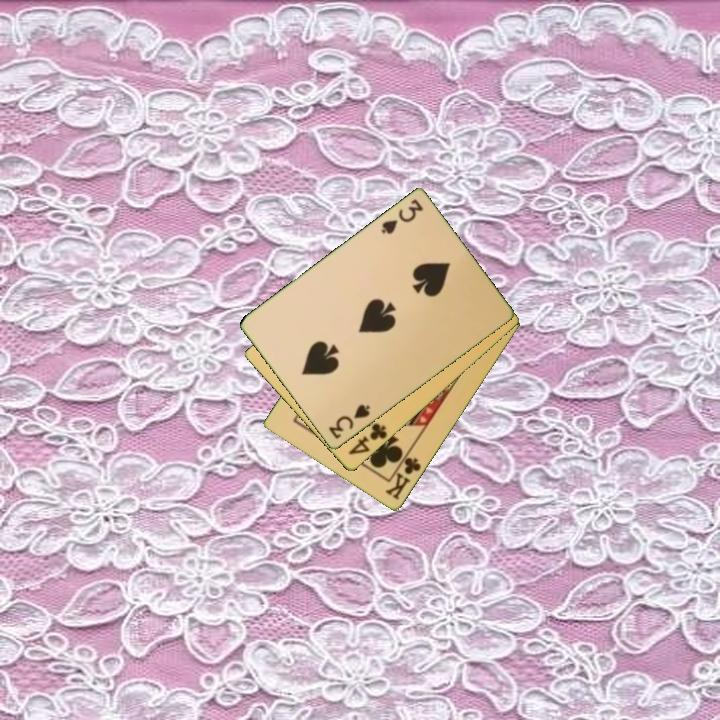3s: (377, 196, 426, 237), (325, 401, 373, 442)
4c: (345, 420, 390, 458)
Kc: (382, 448, 424, 503)
